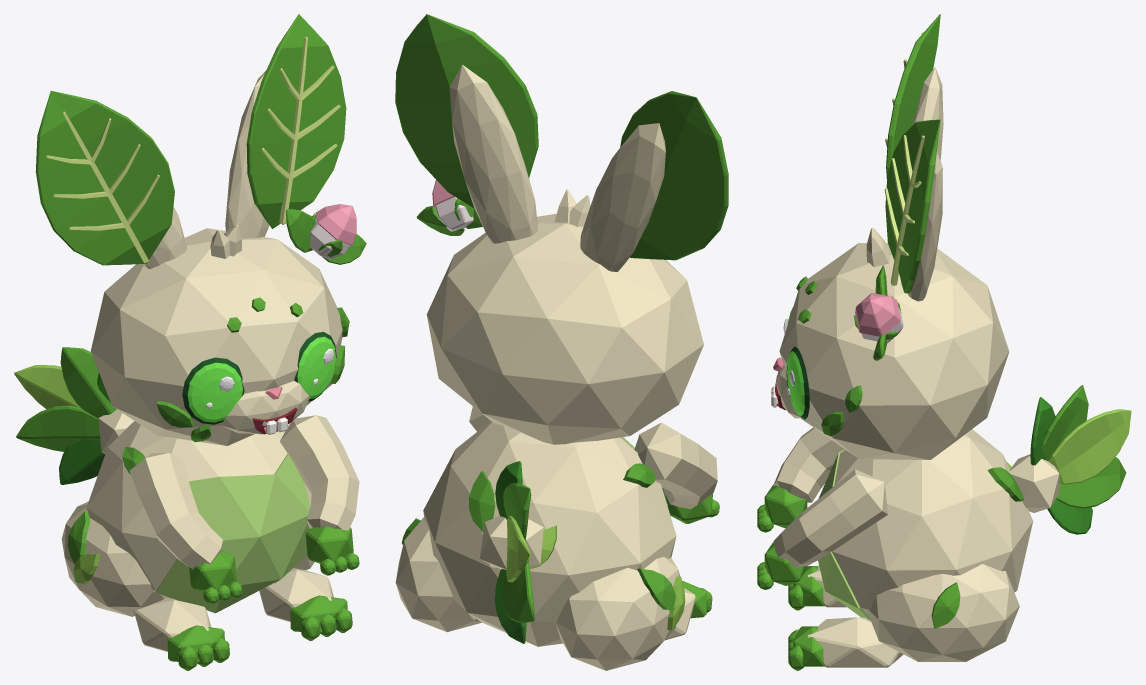
The model's file is Leafbun.fbx.
3 renders of one model, left to right at view 1: azimuth 30°, elevation 25°; view 2: azimuth 150°, elevation 25°; view 3: azimuth 270°, elevation 25°, orthographic. The views are drawn at different scales.
Parts seen in each view (by area): view 1: Head, Ear_Right_Leaf, Ear_Left_Leaf, Belly, Body, Arm_Right, Arm_Left, Haunch_Right, Ear_Left, Tail_Leaf_2, Foot_Right, Ear_Left_LeafVeins (+21 smaller); view 2: Head, Body, Ear_Left_Leaf, Ear_Right_Leaf, Ear_Left, Haunch_Right, Ear_Right, Haunch_Left, Arm_Right, Tail, Tail_Leaf_2, Tail_Leaf_3 (+12 smaller); view 3: Head, Body, Haunch_Left, Arm_Left, Ear_Left_Leaf, Tail_Leaf_3, Foot_Left, Ear_Right_Leaf, Arm_Right, Tail, Ear_Left, Tail_Leaf_2 (+15 smaller).
Boxes of the visible parts, left/top/right/bottom form: Head: left=90, top=228, right=342, bottom=445; Ear_Right_Leaf: left=35, top=91, right=174, bottom=265; Ear_Left_Leaf: left=246, top=14, right=346, bottom=228; Belly: left=155, top=453, right=310, bottom=613; Body: left=86, top=421, right=311, bottom=598; Arm_Right: left=129, top=453, right=222, bottom=569; Arm_Left: left=280, top=415, right=359, bottom=530; Haunch_Right: left=61, top=501, right=164, bottom=616; Ear_Left: left=225, top=70, right=269, bottom=238; Tail_Leaf_2: left=16, top=405, right=100, bottom=451; Foot_Right: left=134, top=598, right=210, bottom=651; Ear_Left_LeafVeins: left=261, top=37, right=340, bottom=224; Head: left=426, top=213, right=703, bottom=444; Body: left=423, top=421, right=676, bottom=646; Ear_Left_Leaf: left=395, top=14, right=538, bottom=208; Ear_Right_Leaf: left=620, top=91, right=728, bottom=260; Ear_Left: left=449, top=64, right=537, bottom=243; Haunch_Right: left=555, top=557, right=680, bottom=670; Ear_Right: left=580, top=123, right=665, bottom=271; Haunch_Left: left=395, top=517, right=481, bottom=632; Arm_Right: left=634, top=422, right=717, bottom=509; Tail: left=479, top=515, right=543, bottom=569; Tail_Leaf_2: left=503, top=561, right=534, bottom=623; Tail_Leaf_3: left=506, top=516, right=530, bottom=582; Head: left=779, top=243, right=1009, bottom=459; Body: left=832, top=429, right=1032, bottom=615; Haunch_Left: left=868, top=564, right=1019, bottom=661; Arm_Left: left=773, top=469, right=887, bottom=567; Ear_Left_Leaf: left=885, top=119, right=940, bottom=293; Tail_Leaf_3: left=1048, top=409, right=1131, bottom=484; Foot_Left: left=807, top=617, right=903, bottom=667; Ear_Right_Leaf: left=886, top=14, right=940, bottom=178; Arm_Right: left=773, top=427, right=844, bottom=502; Tail: left=1009, top=454, right=1059, bottom=512; Ear_Left: left=901, top=151, right=942, bottom=301; Tail_Leaf_2: left=1056, top=457, right=1126, bottom=508.
Bounding box in the file's own units: 1.06 × 1.84 × 1.1.
